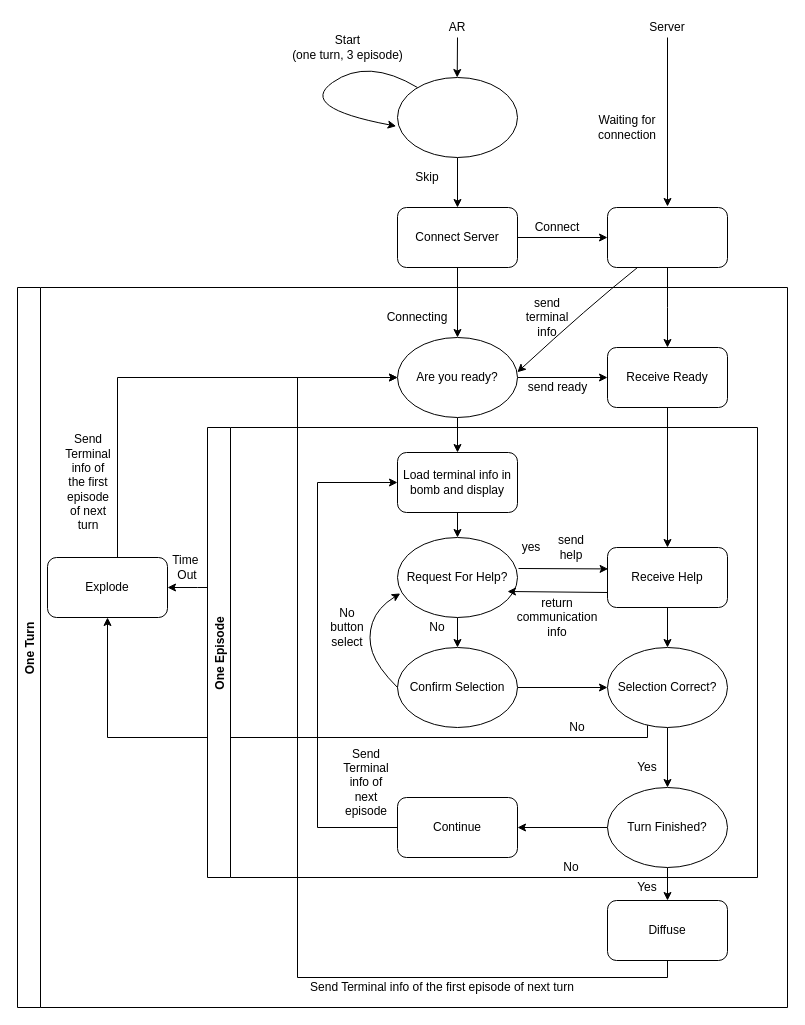
Image size: 805x1025. Some labels were removed from this diagram. Here are the shapes that lost their labels. From the top down, the box of each, then its label:
(396, 76, 518, 158): Tutorial Mode
(606, 206, 728, 268): Connect AR
